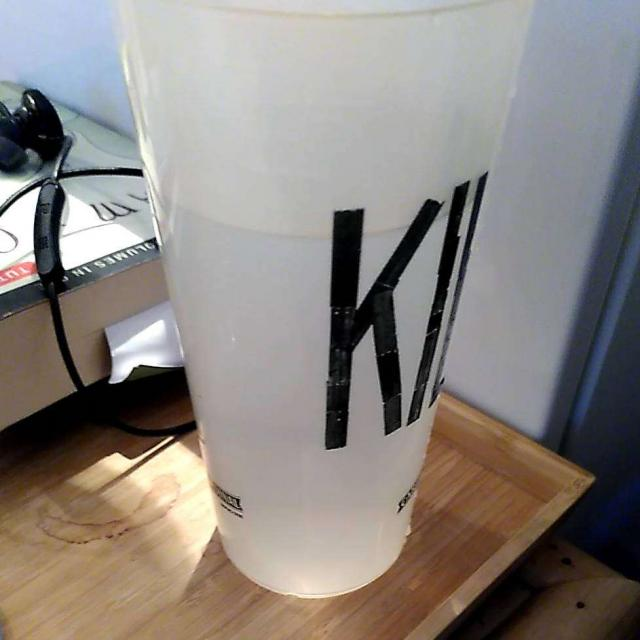water: (142, 20, 505, 578)
